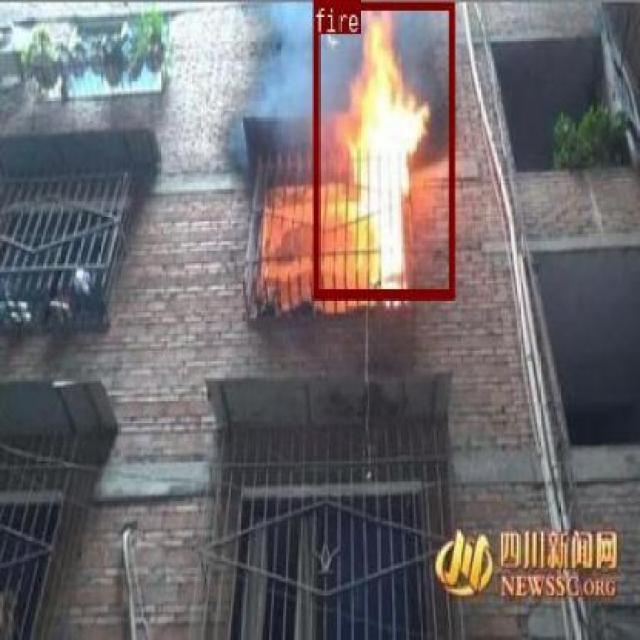Fire: (312, 0, 453, 295)
Smoke: (258, 5, 306, 114)
